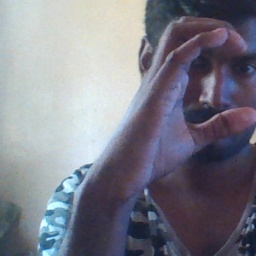C: (161, 13, 256, 142)
